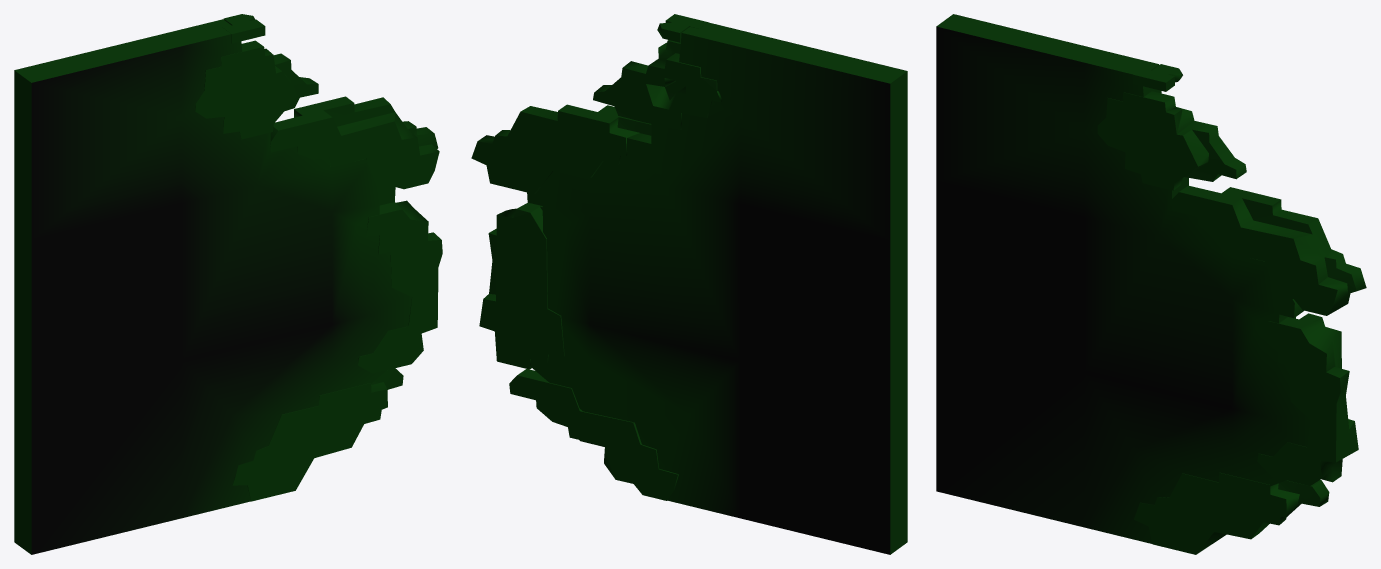
Rendered from DBK_Brick_Side_A.fbx.
3 views of the same model, side by side, from view 1: azimuth 30°, elevation 25°; view 2: azimuth 150°, elevation 25°; view 3: azimuth 330°, elevation 25° (orthographic).
Visible parts, largest first — view 1: DBK_Brick_Side_A; view 2: DBK_Brick_Side_A; view 3: DBK_Brick_Side_A.
Part boxes in pixels (x1,y1,x2,y2): DBK_Brick_Side_A: (14,14,442,554); DBK_Brick_Side_A: (471,14,907,554); DBK_Brick_Side_A: (936,14,1366,554).
Bounding box in the file's own units: 279 × 300 × 21.05.
